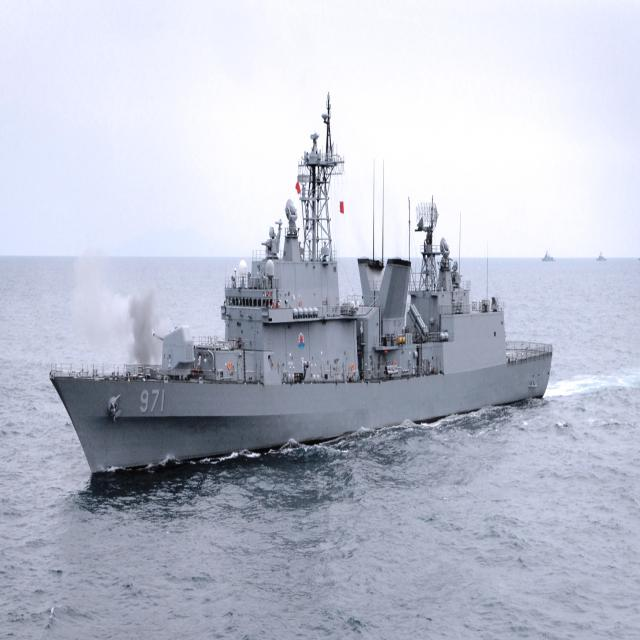navalvessels: (35, 104, 570, 516)
